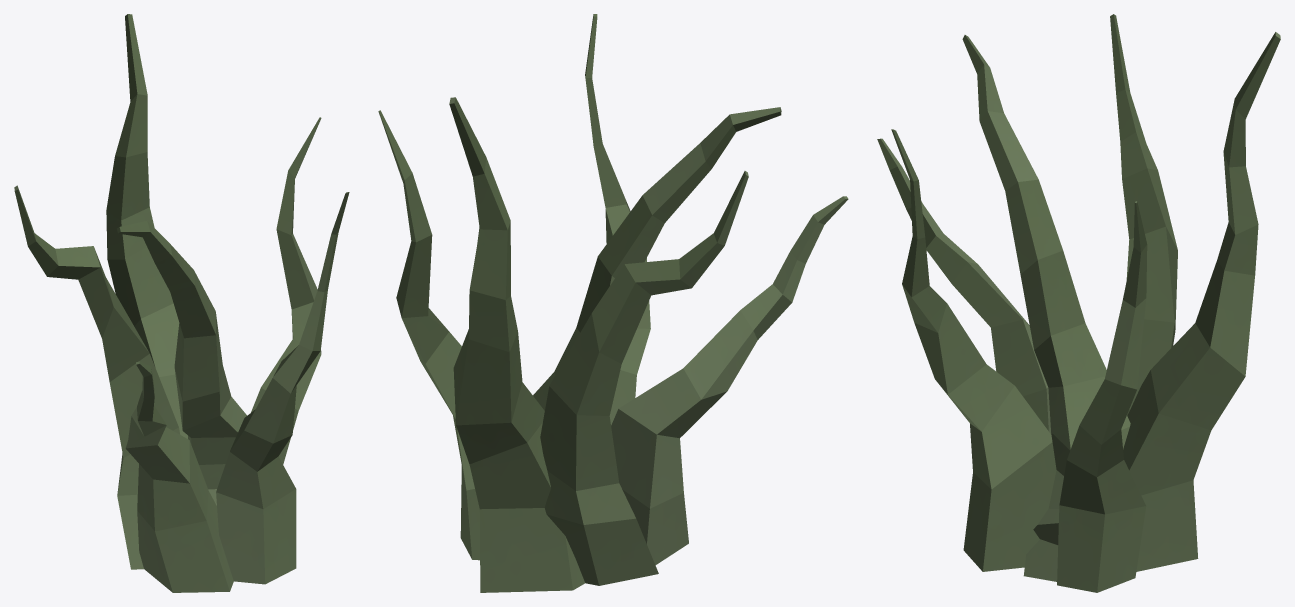
Rendered from grass_green_7.glb.
3 views of the same model, side by side, from view 1: azimuth 30°, elevation 25°; view 2: azimuth 150°, elevation 25°; view 3: azimuth 270°, elevation 25° (orthographic). The views are drawn at different scales.
Parts seen in each view (by area): view 1: grass_green_7; view 2: grass_green_7; view 3: grass_green_7.
Part boxes in pixels (bbox=[...]): grass_green_7: bbox=[14, 14, 349, 592]; grass_green_7: bbox=[378, 14, 848, 592]; grass_green_7: bbox=[877, 14, 1280, 592].
Size of the model in its own units: 0.245 by 0.3448 by 0.2425.
1 material, 1 textured.
